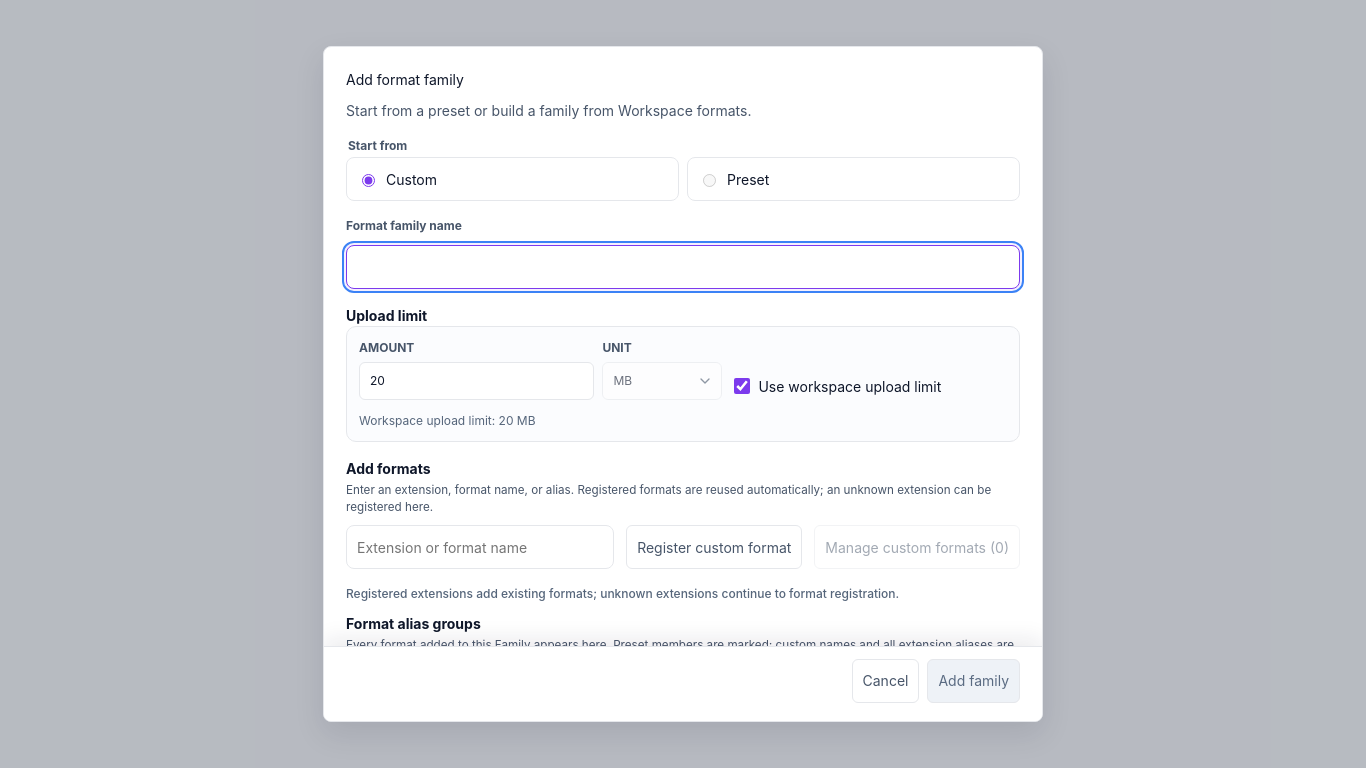
Format Family alias-group editor › rejects an unsafe alias in single custom-format registration
Click the button "Register custom format".
click(714, 547)  # box top-left (626, 525), bottom-right (802, 569)
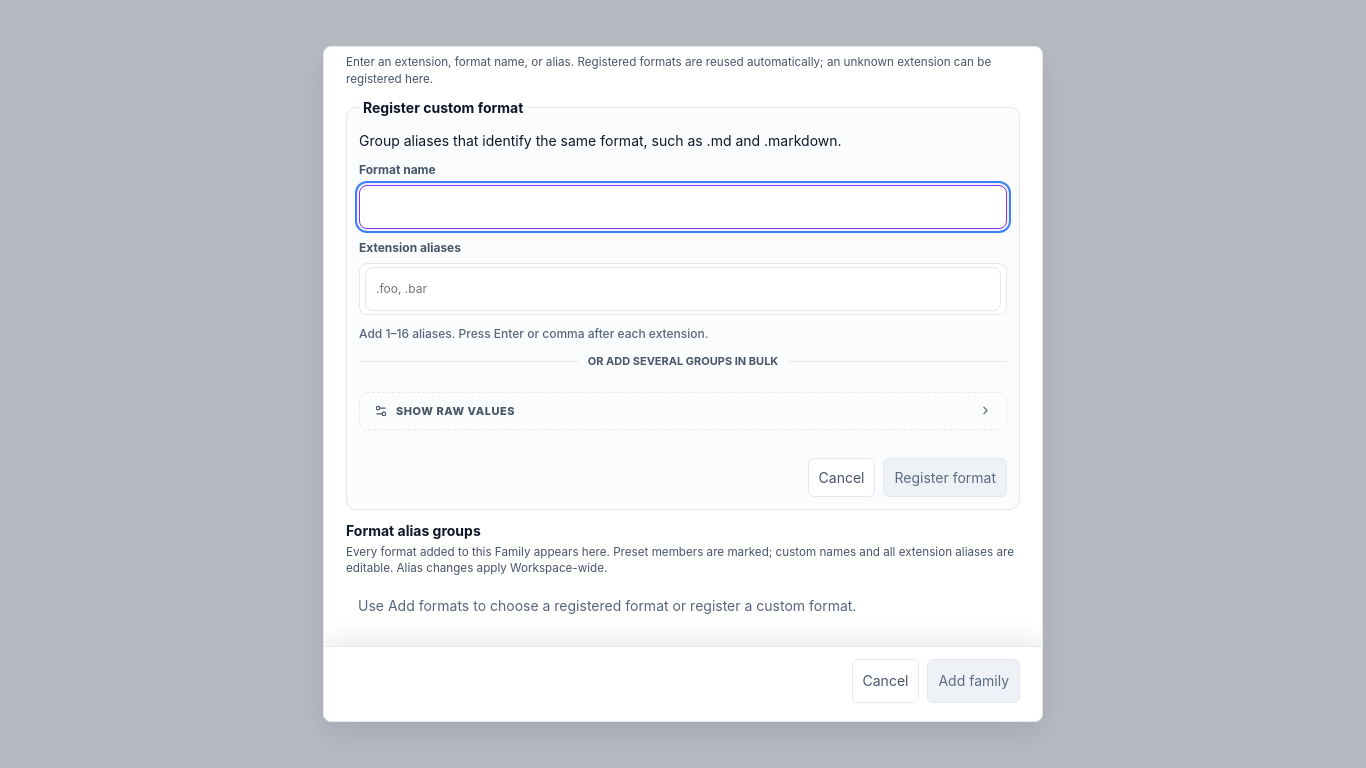
Type "Active content" into the field labelled "Format name".
click(683, 207); type("Active content")  # box top-left (359, 185), bottom-right (1007, 229)
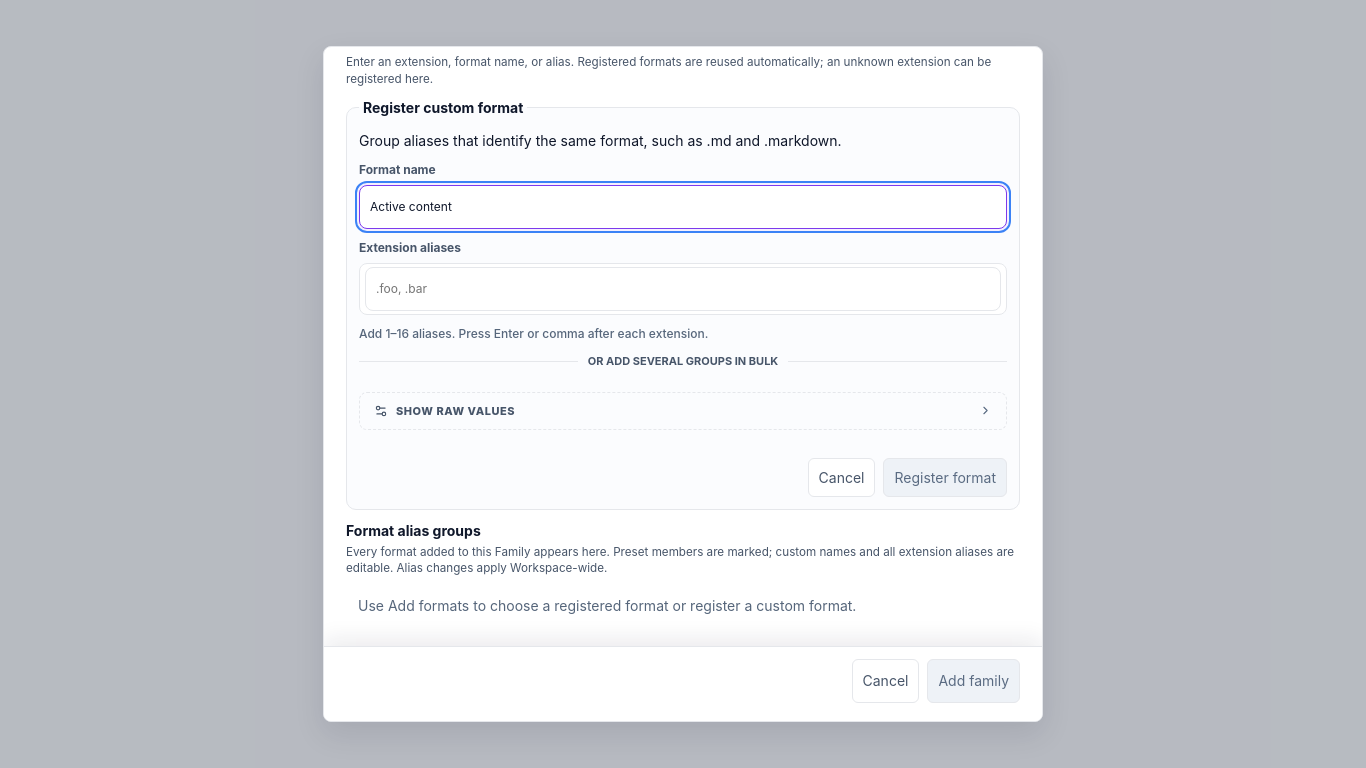
Type ".svg" into the field named "Extension aliases".
click(683, 289); type(".svg")  # box top-left (365, 267), bottom-right (1001, 311)
Then press Enter
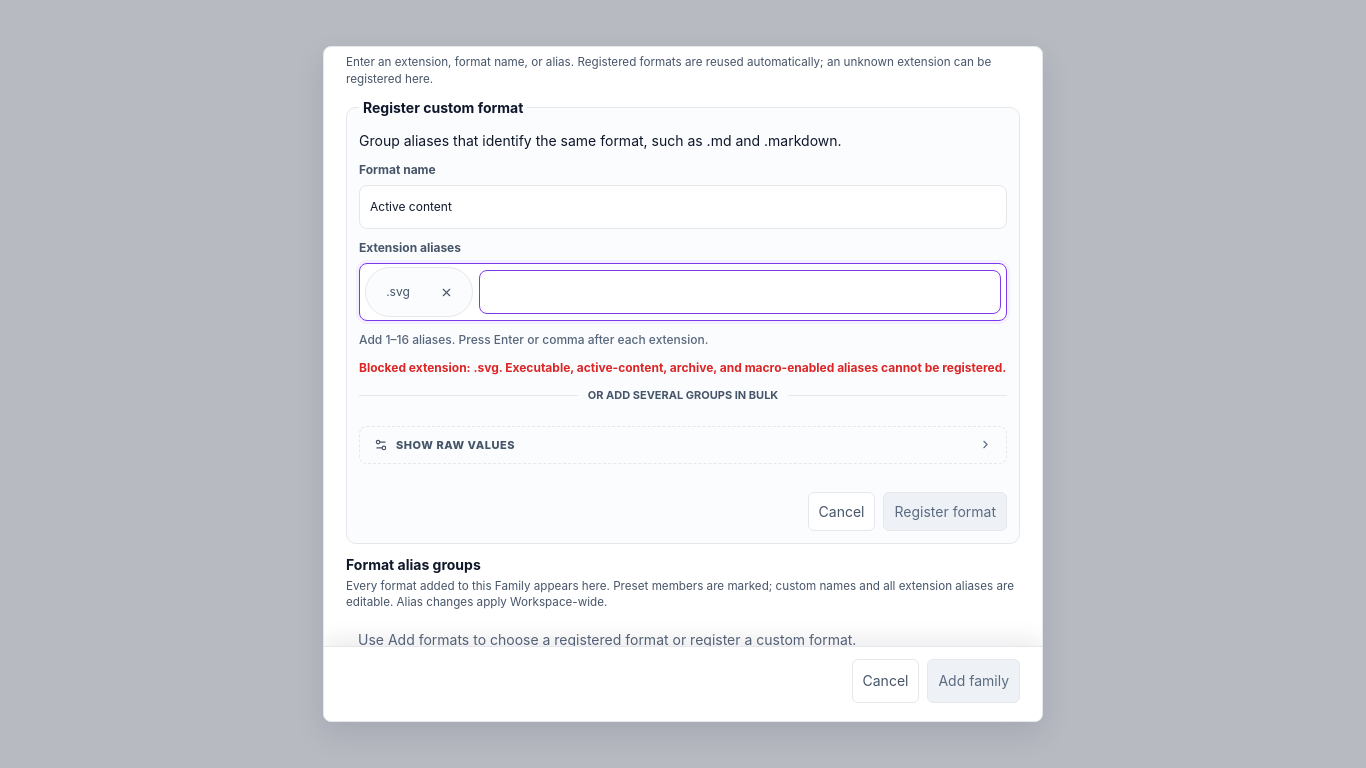
Expected: the button "Register format" is disabled, top-left (884, 492), bottom-right (1007, 531)
Expected: the message shows "Blocked extension: .svg", top-left (359, 360), bottom-right (1006, 375)
